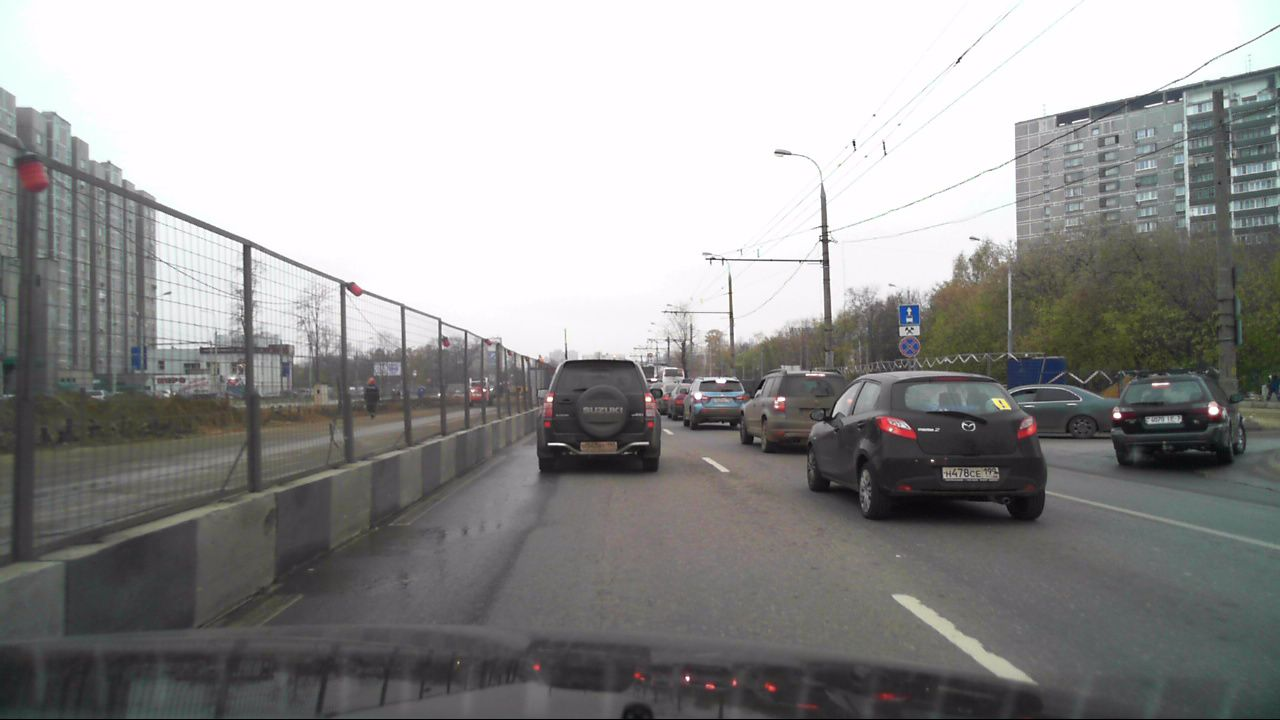No Parking: (898, 336, 920, 357)
